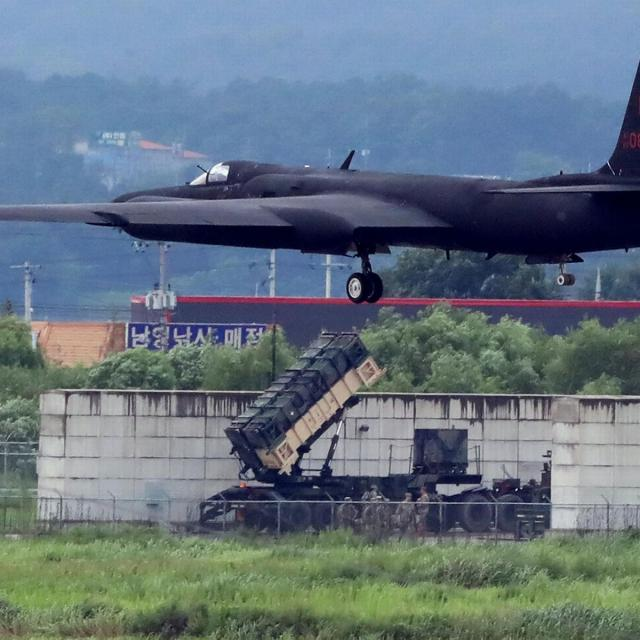MIL_Plane: (0, 58, 640, 303)
